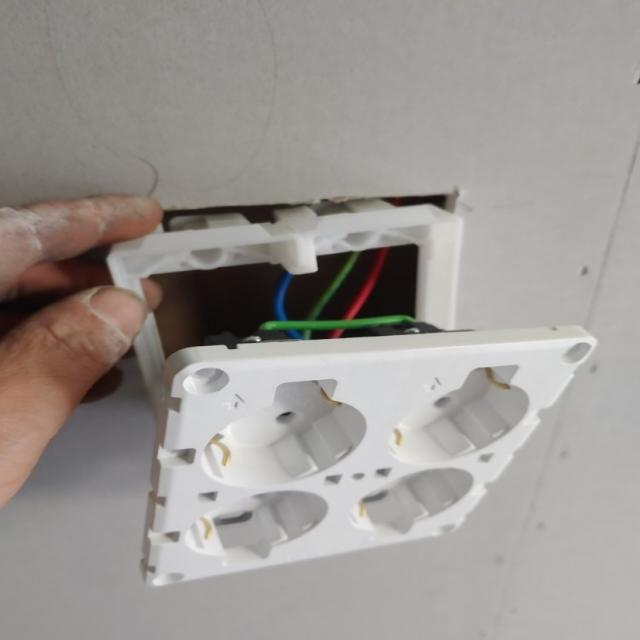typeb: (150, 353, 528, 591)
